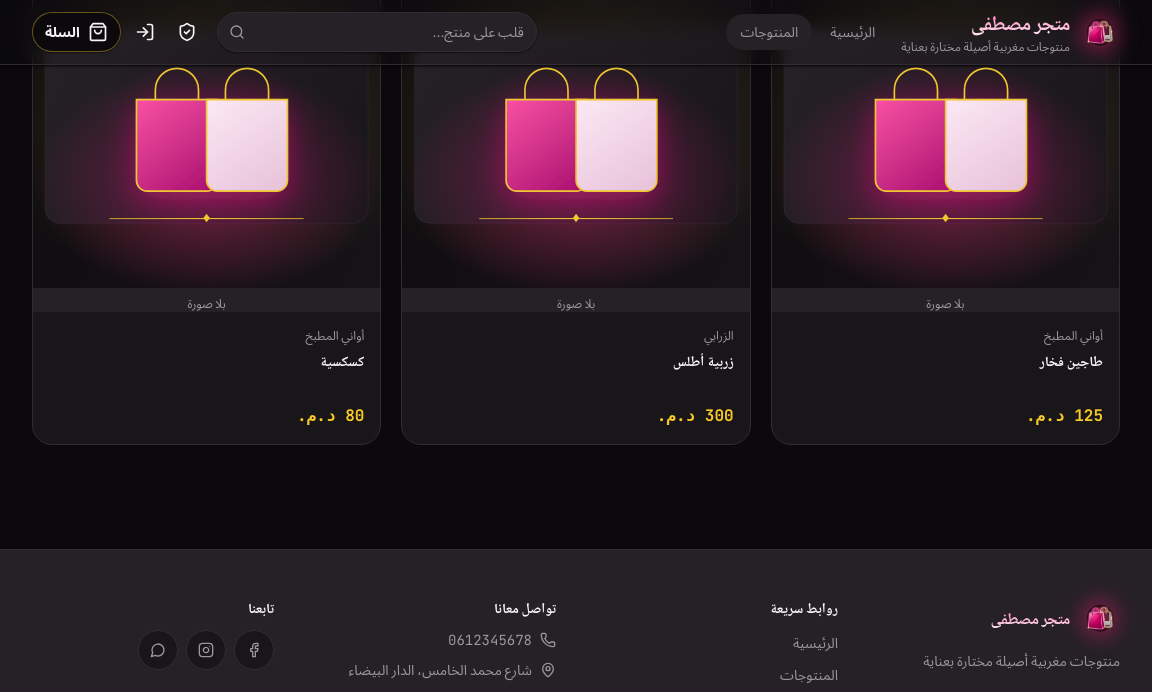
Test: storefront journeys › opens a product detail page from a catalog card
(page scrolled)
Click the heading "طاجين فخار": point(1071, 361) x1=1040 y1=352 x2=1103 y2=370
(page scrolled)
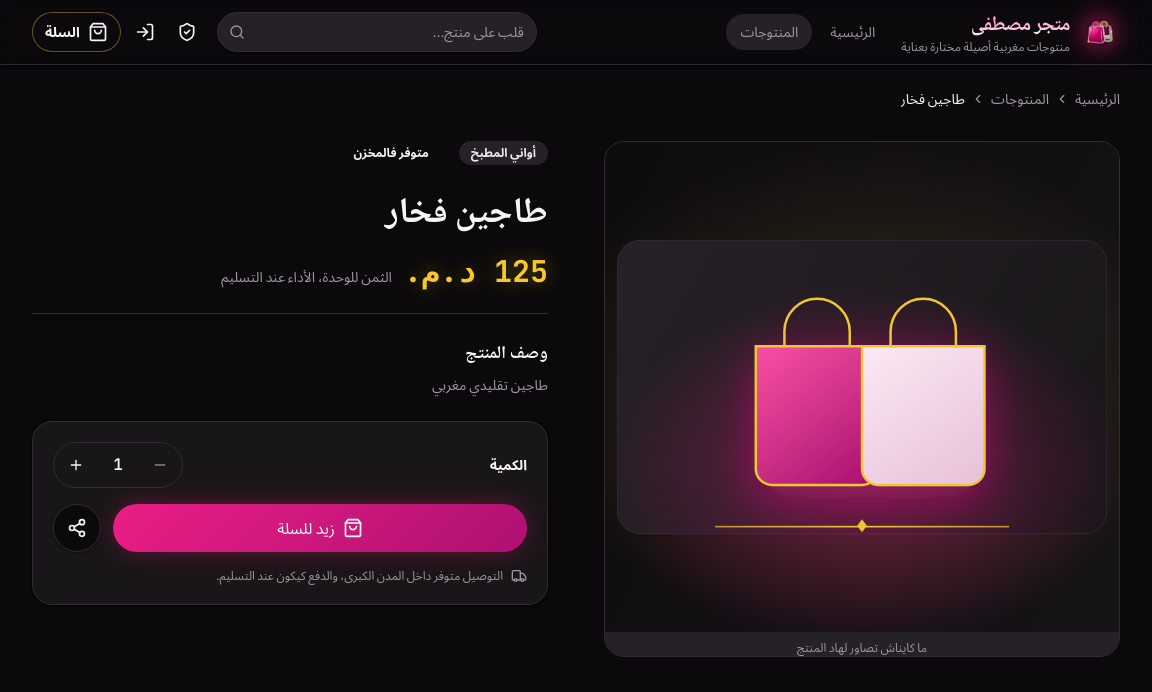
Expected: the text "125 د.م." is shown, x1=404 y1=253 x2=548 y2=289
Expected: the heading "طاجين فخار" is shown, x1=385 y1=187 x2=548 y2=231
Expected: the text "طاجين تقليدي مغربي" is shown, x1=432 y1=376 x2=548 y2=393
